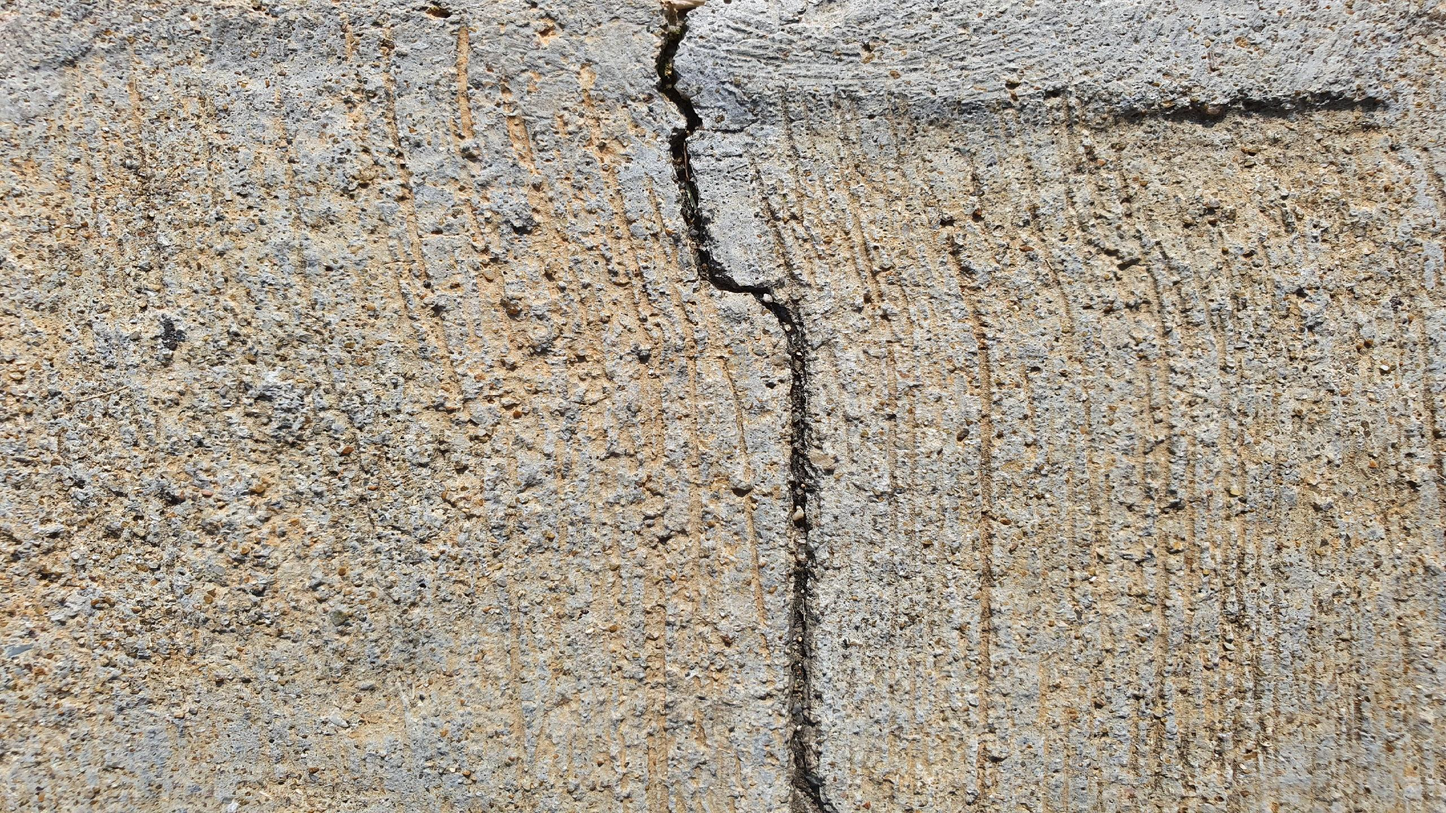crack: (653, 0, 828, 807)
